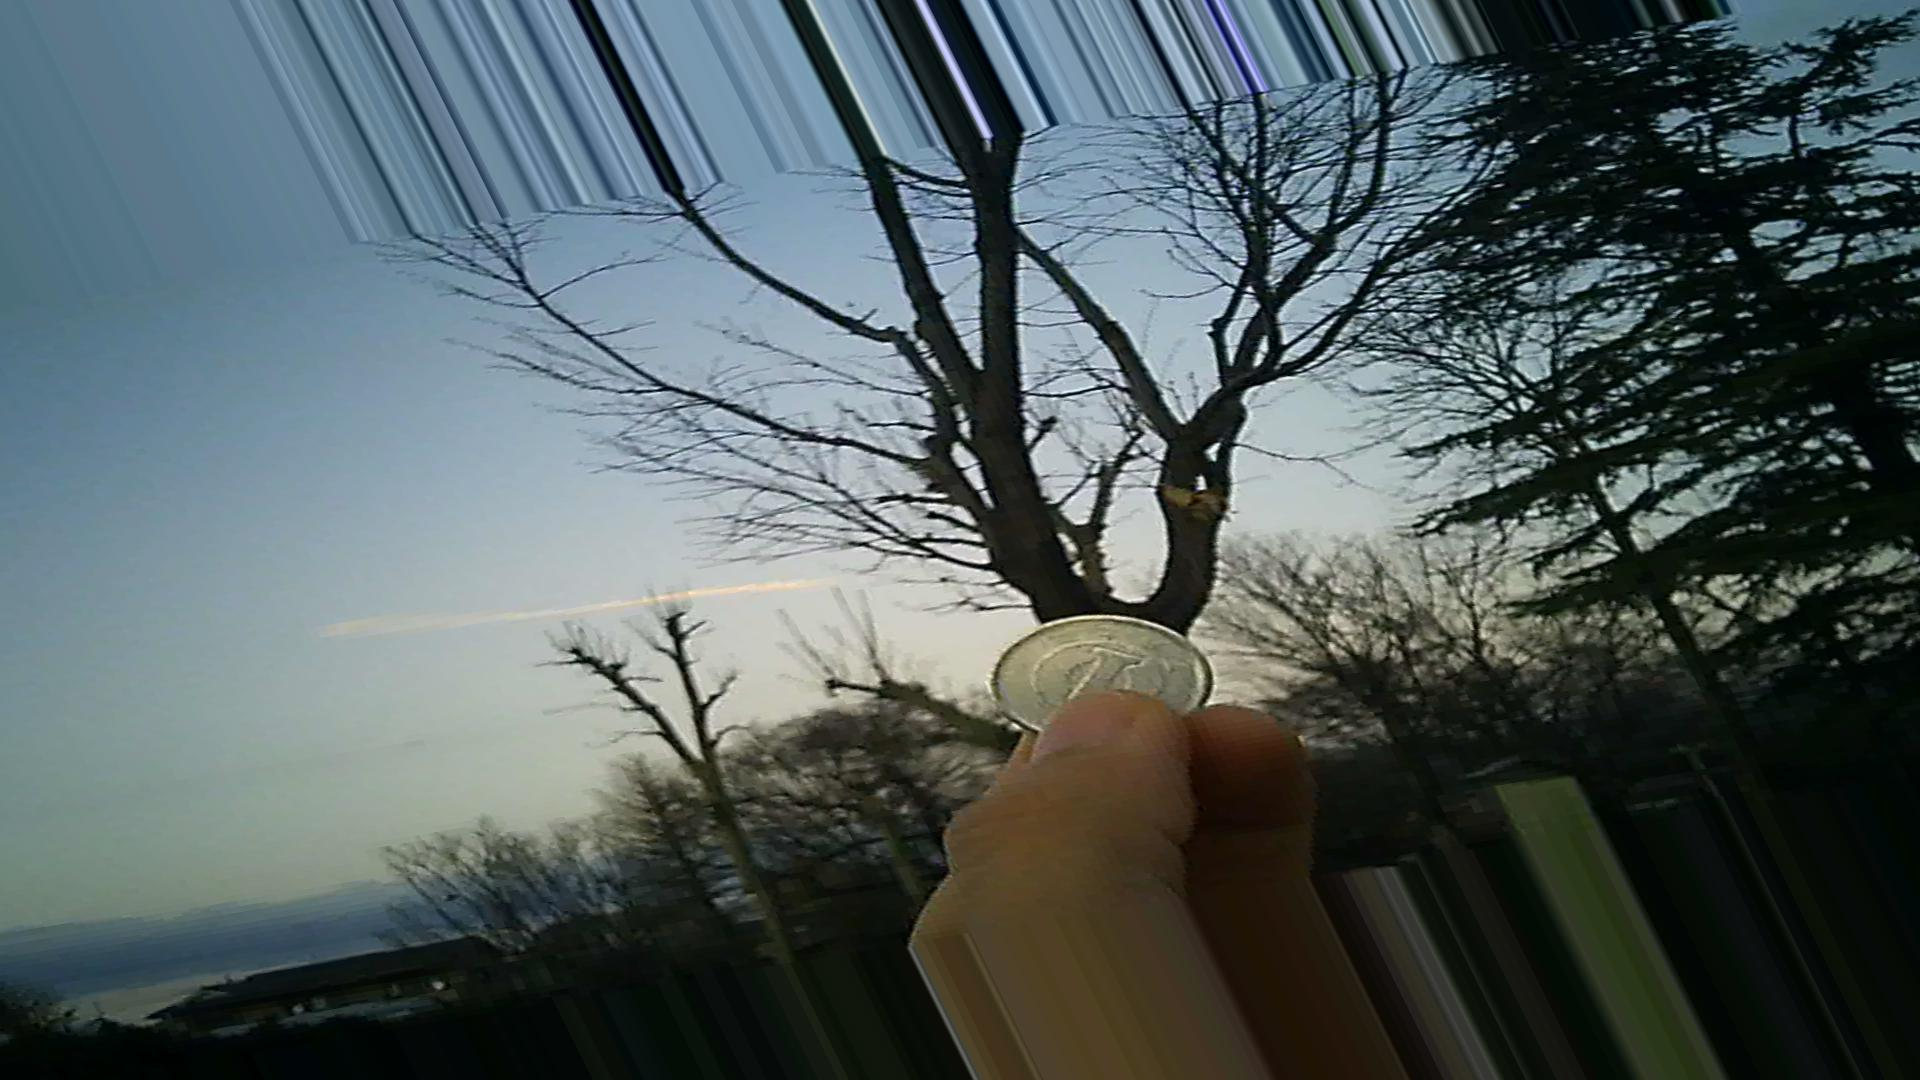1 Yen: (984, 611, 1213, 748)
